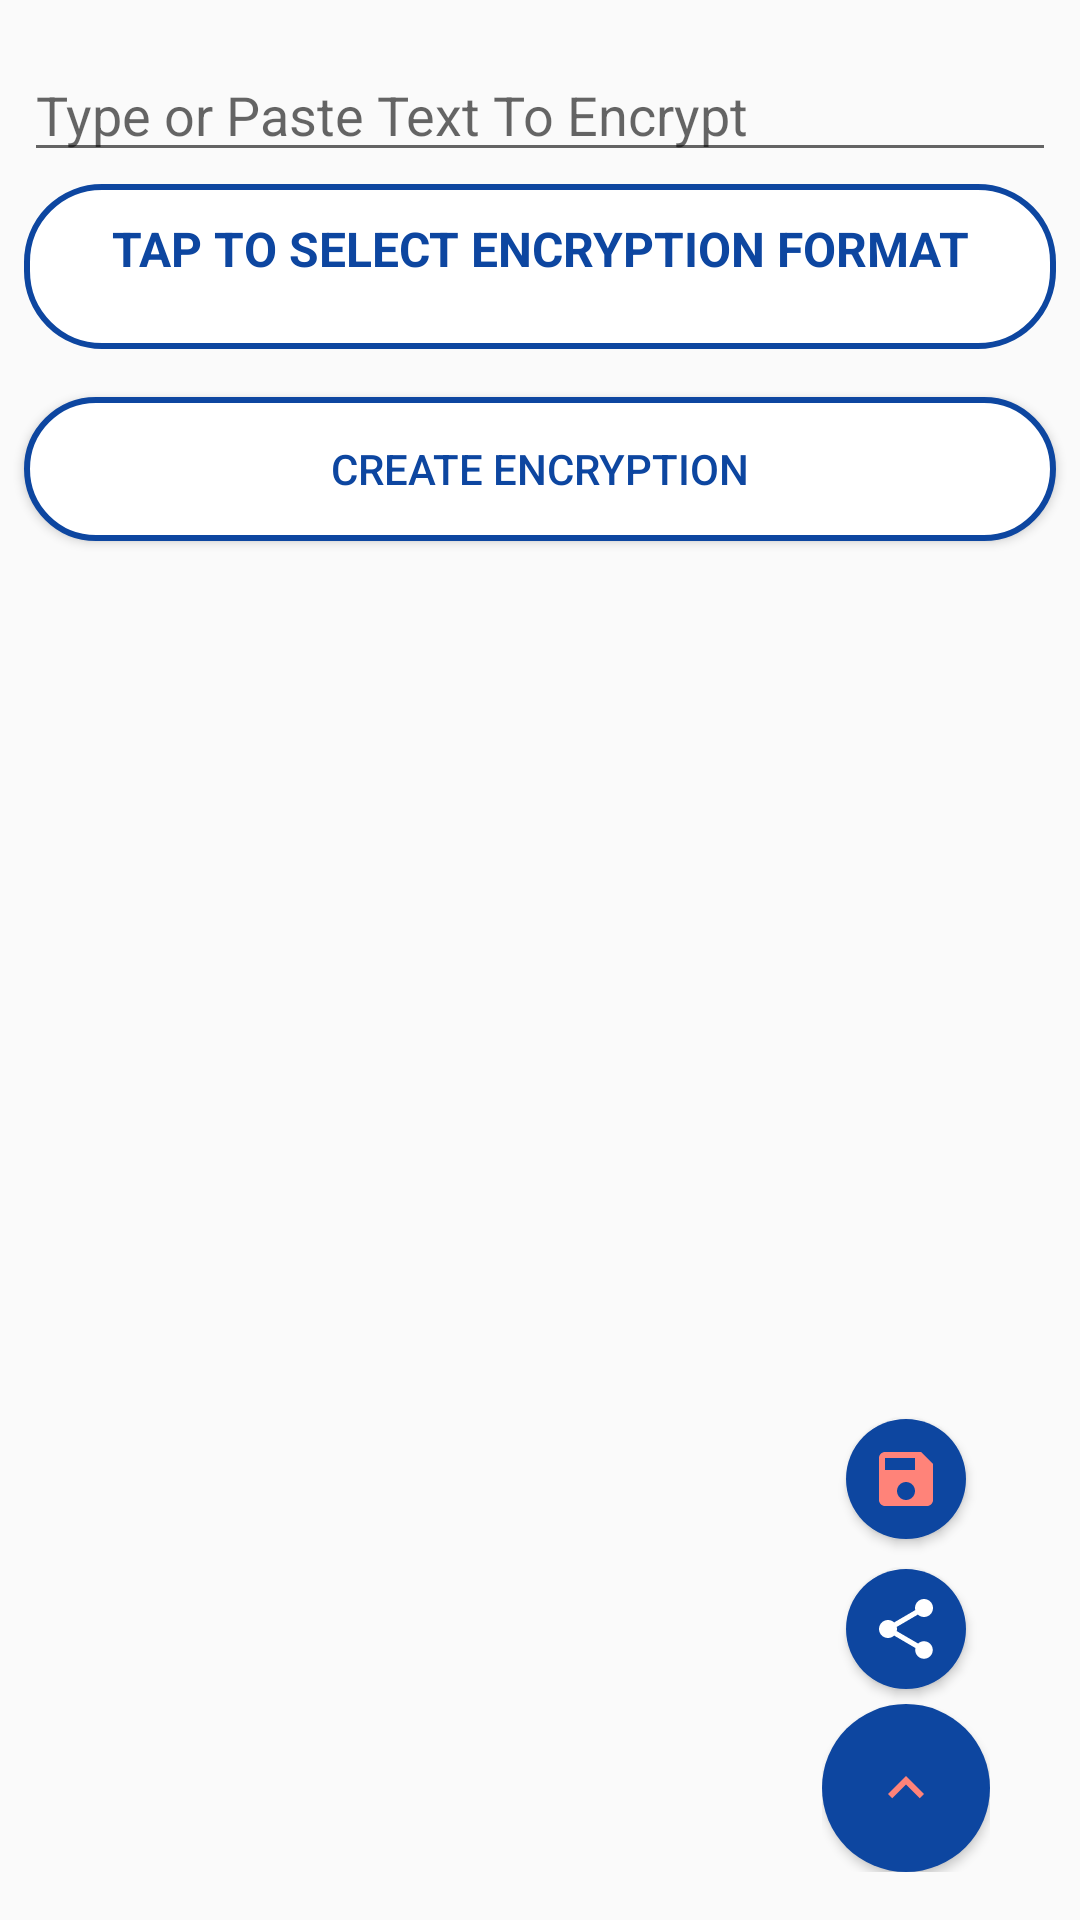

Screen size 1080x1920. Icon name, then its center in pixels as point (x, y):
keyboard arrow up: point (906, 1788)
save: point (906, 1479)
share: point (906, 1629)
